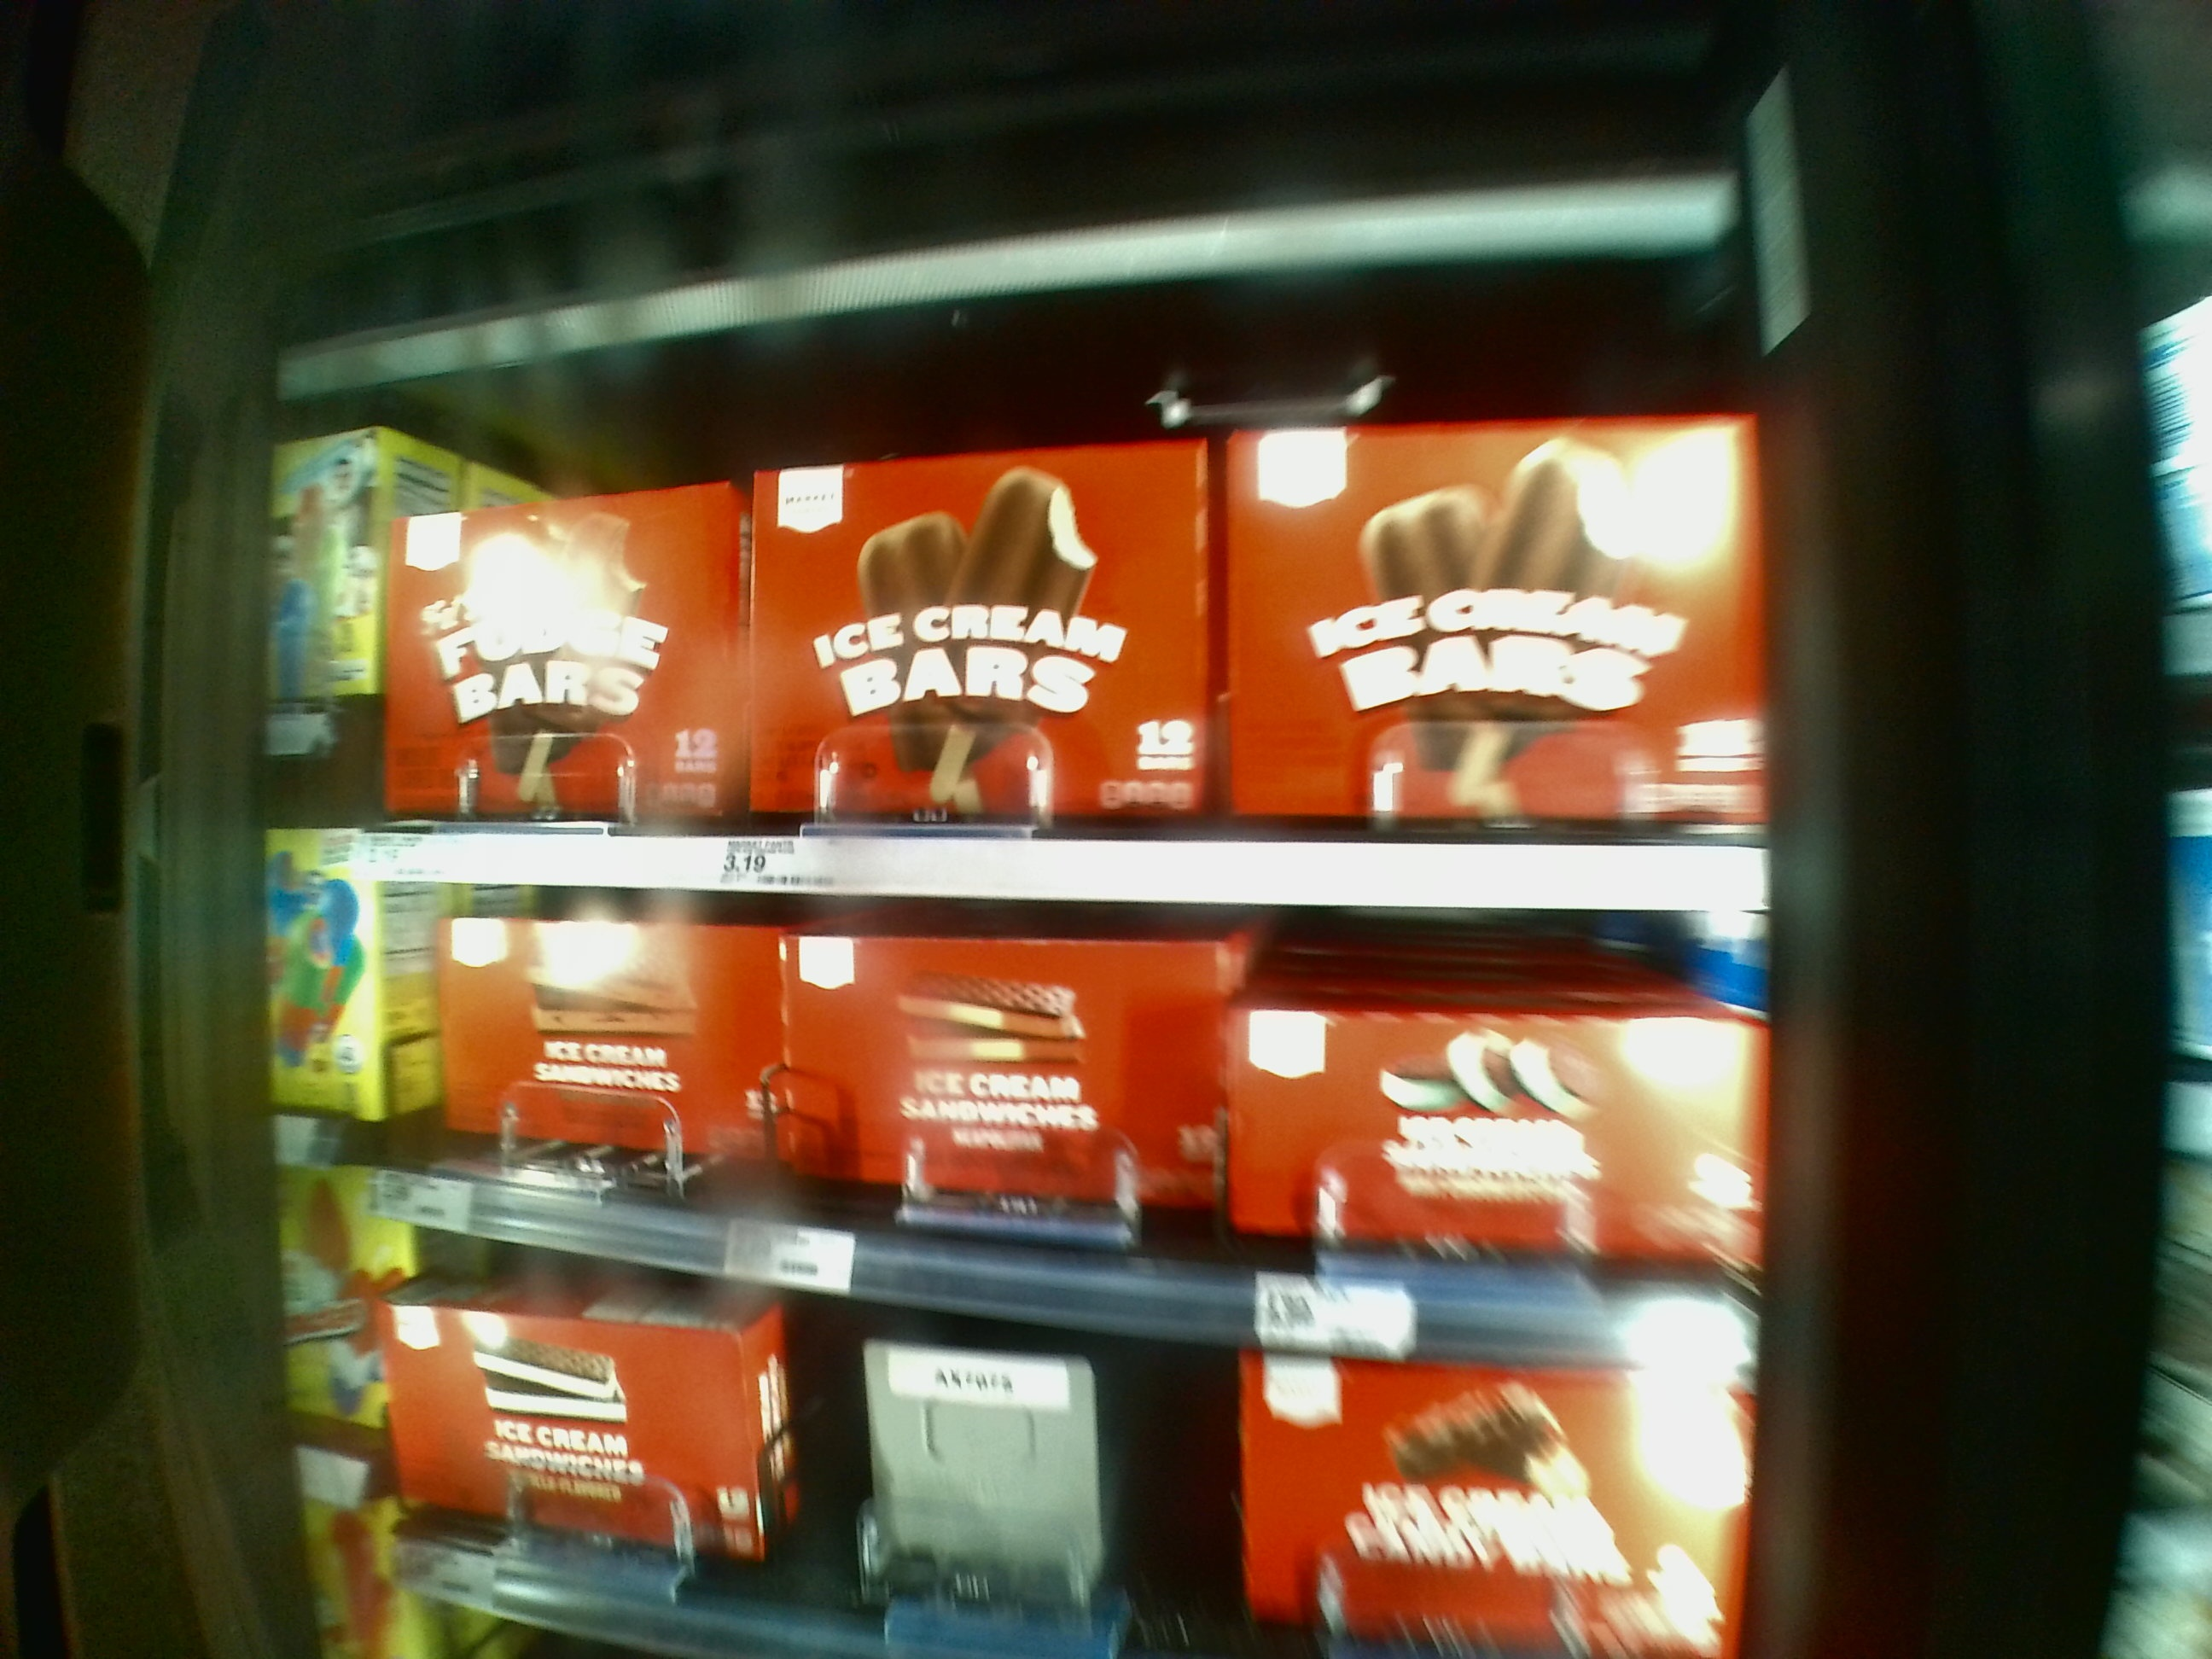shelf: (366, 373, 1731, 901), (380, 896, 1759, 1368)
